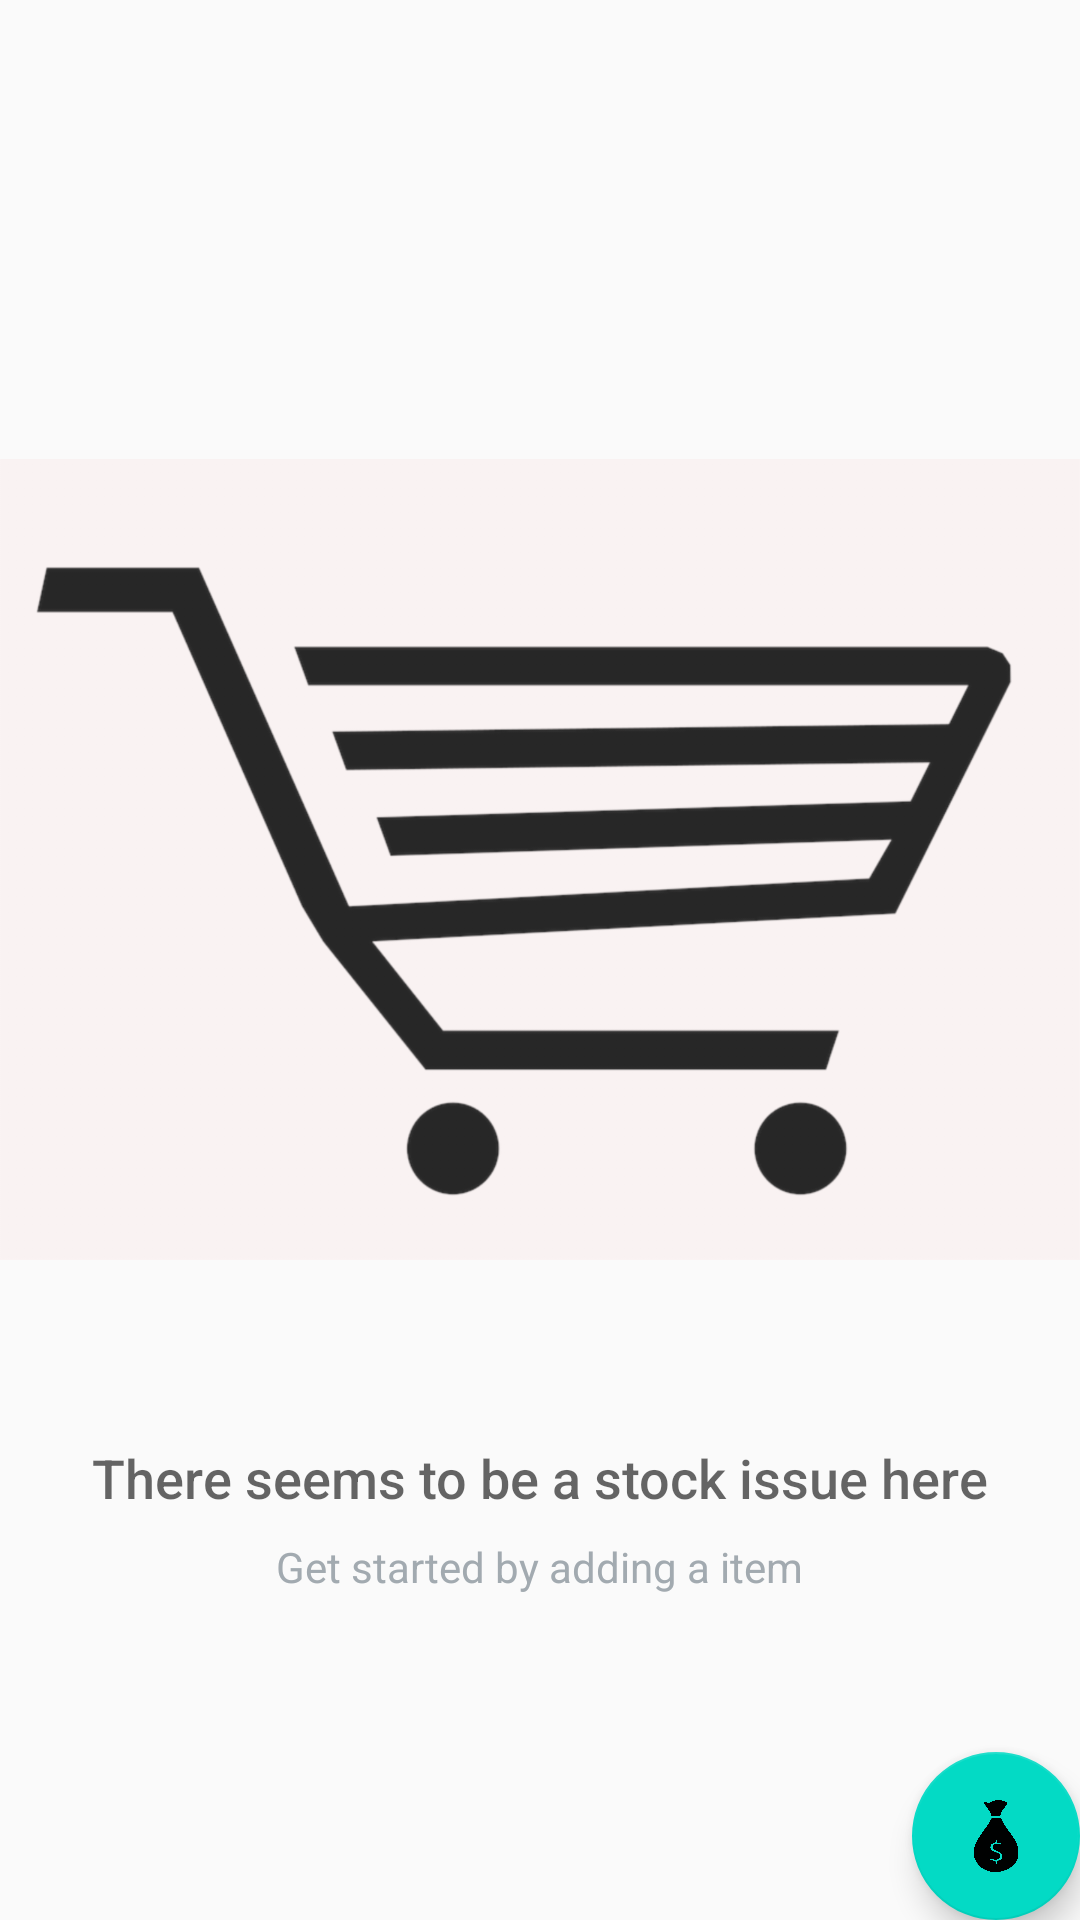

Screen size 1080 × 1920. Icon name, then its box in pixels as [x1=x1, y1=y1, x2=x2, y2=y2]:
bag: [x1=912, y1=1752, x2=1080, y2=1920]
